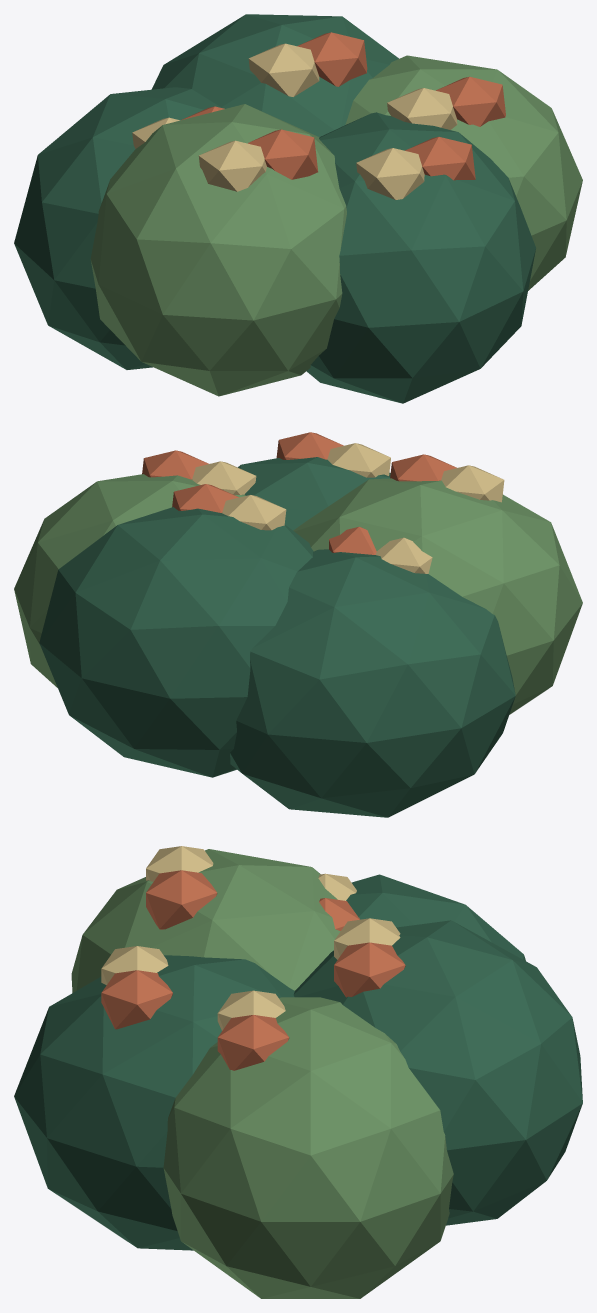
Rendered from PirateCove_FlowerBush_Standard.glb.
3 views of the same model, one above another, from view 1: azimuth 30°, elevation 25°; view 2: azimuth 150°, elevation 25°; view 3: azimuth 270°, elevation 25° (orthographic). The views are drawn at different scales.
Visible parts, largest first — view 1: PirateCove_FlowerBush_Standard; view 2: PirateCove_FlowerBush_Standard; view 3: PirateCove_FlowerBush_Standard.
Boxes of the visible parts, x1,y1,x2,y2 form: PirateCove_FlowerBush_Standard: (14,14,582,403); PirateCove_FlowerBush_Standard: (14,432,582,817); PirateCove_FlowerBush_Standard: (14,846,582,1298).
Bounding box in the file's own units: 1.63 × 0.9 × 1.49.
